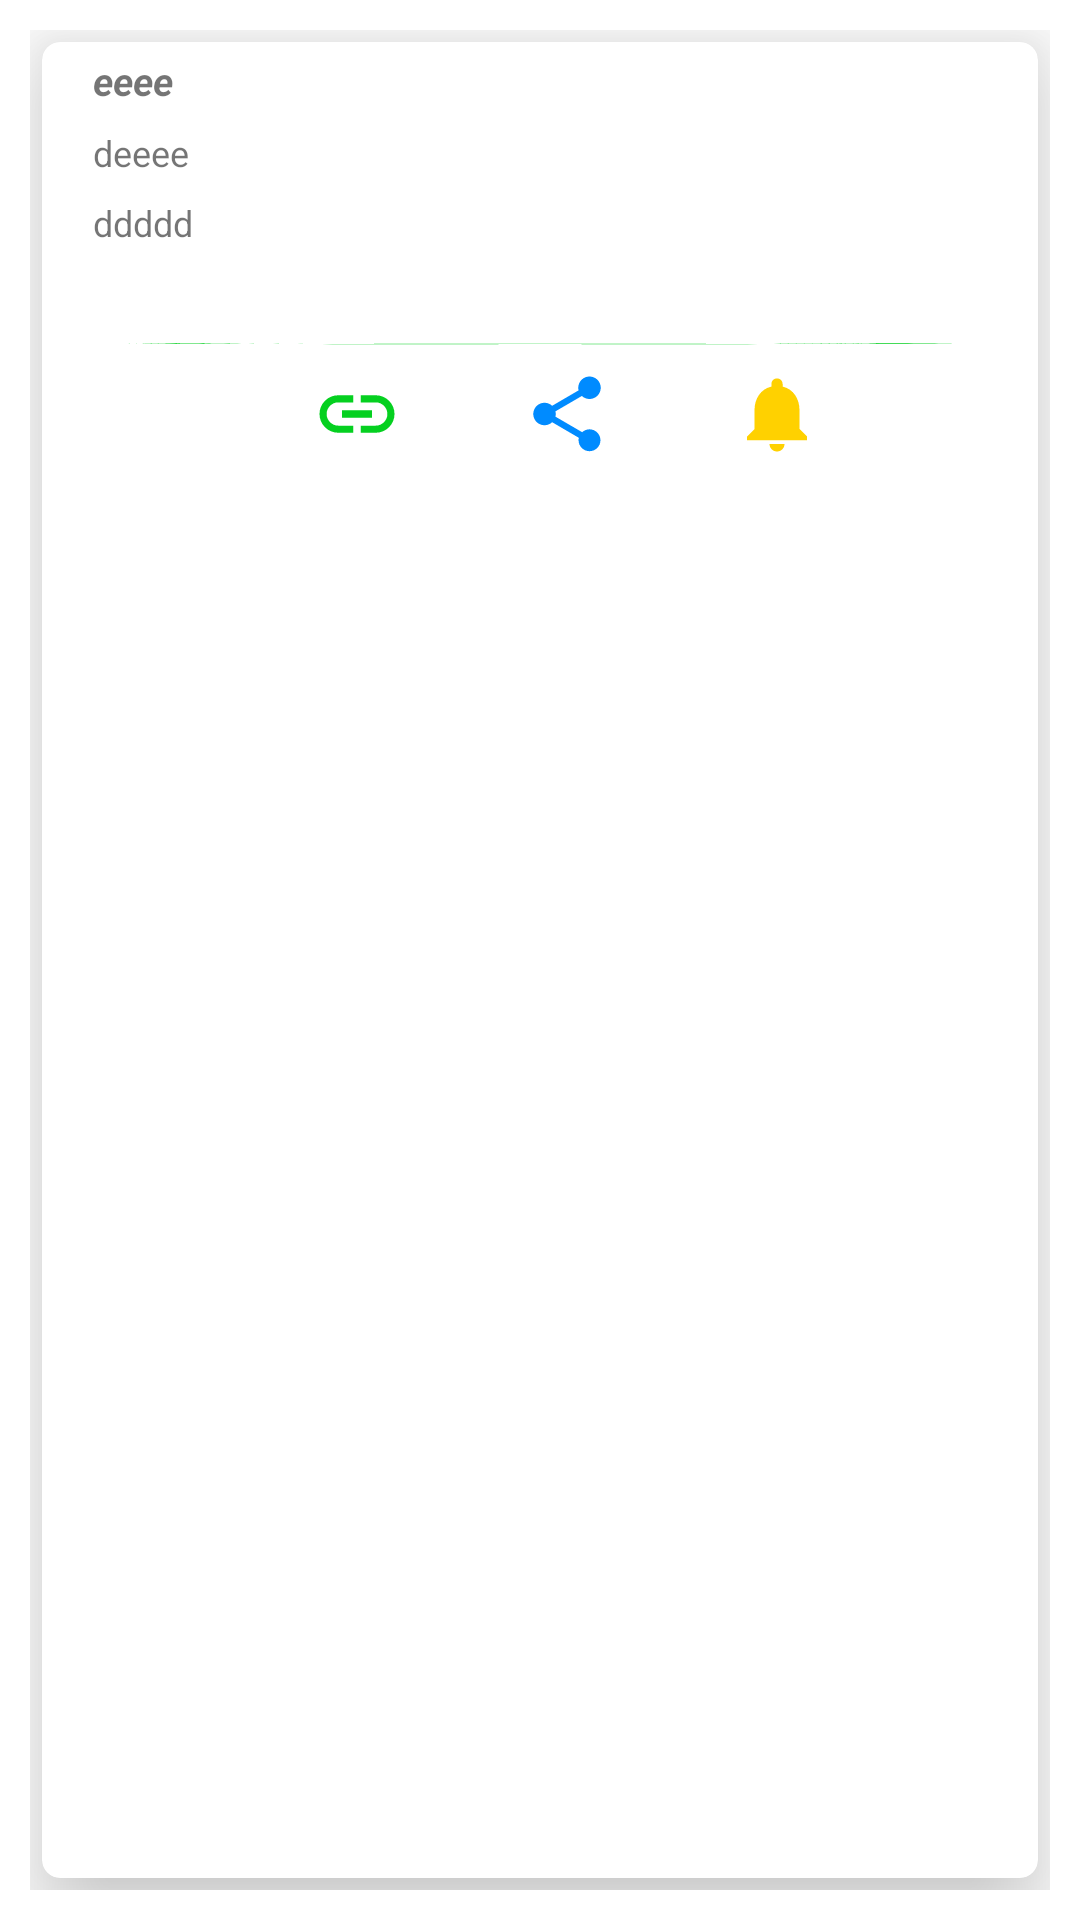

Locate icon controls on the screen. Image size 1080x1920, boxes as BBox(x1, y1, x2, y2).
notifications: BBox(747, 378, 807, 452)
share: BBox(533, 376, 601, 452)
